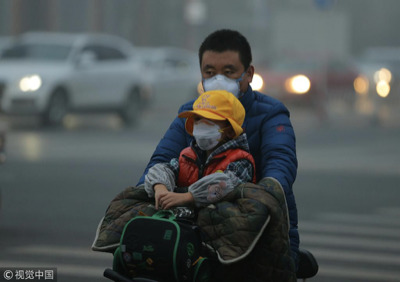with_mask: (202, 61, 246, 103), (190, 115, 224, 150)
